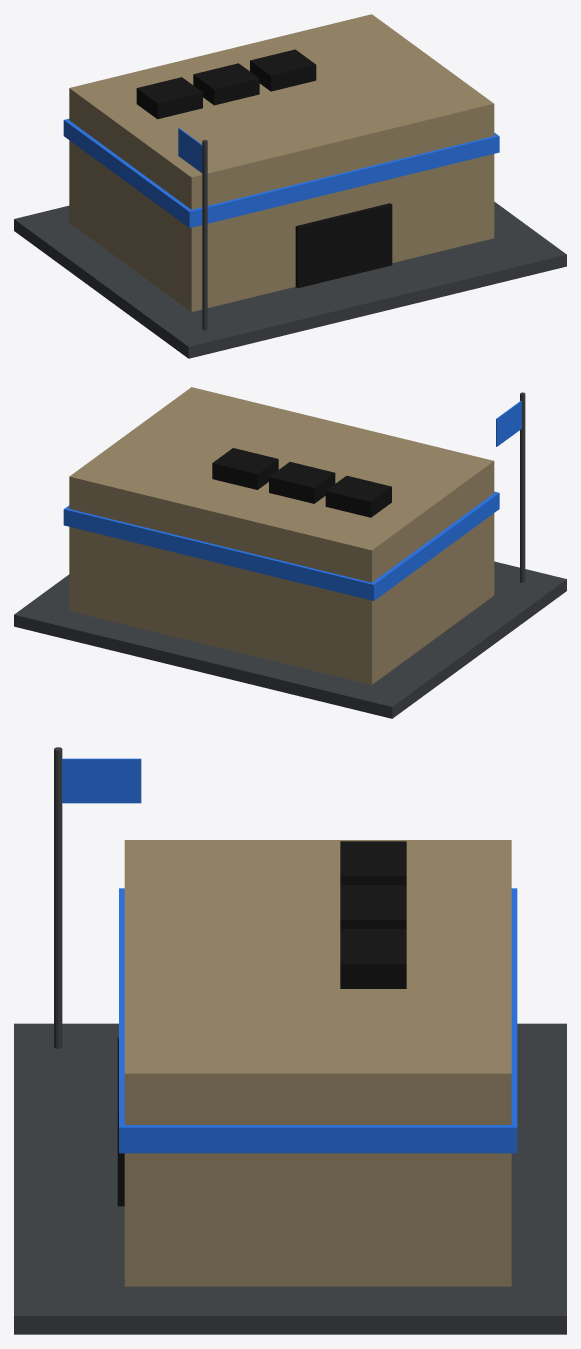
Rendered from ae_barracks.glb.
3 views of the same model, one above another, from view 1: azimuth 30°, elevation 25°; view 2: azimuth 150°, elevation 25°; view 3: azimuth 270°, elevation 25° (orthographic). The views are drawn at different scales.
Parts seen in each view (by area): view 1: main, base, team_band, door, vent_0, vent_2, vent_1, flagpole, flag; view 2: main, base, team_band, vent_0, vent_1, vent_2, flagpole, flag; view 3: main, base, team_band, vent_2, flag, vent_0, vent_1, flagpole.
Part boxes in pixels (bbox=[...]): main: bbox=[69, 14, 494, 311]; base: bbox=[14, 201, 566, 358]; team_band: bbox=[63, 118, 499, 227]; door: bbox=[295, 203, 392, 288]; vent_0: bbox=[136, 77, 202, 119]; vent_2: bbox=[250, 49, 316, 91]; vent_1: bbox=[193, 63, 259, 105]; flagpole: bbox=[202, 140, 207, 330]; flag: bbox=[178, 128, 202, 172]; main: bbox=[69, 387, 494, 684]; base: bbox=[14, 561, 566, 718]; team_band: bbox=[63, 491, 499, 600]; vent_0: bbox=[325, 475, 391, 517]; vent_1: bbox=[269, 462, 335, 503]; vent_2: bbox=[212, 448, 278, 489]; flagpole: bbox=[520, 392, 525, 582]; flag: bbox=[496, 401, 521, 446]; main: bbox=[124, 840, 511, 1286]; base: bbox=[14, 1023, 566, 1334]; team_band: bbox=[119, 888, 517, 1153]; vent_2: bbox=[340, 929, 406, 988]; flag: bbox=[62, 758, 141, 803]; vent_0: bbox=[340, 841, 406, 884]; vent_1: bbox=[340, 885, 406, 928]; flagpole: bbox=[54, 747, 62, 1048].
Size of the model in its own units: 10 by 5.06 by 8.
